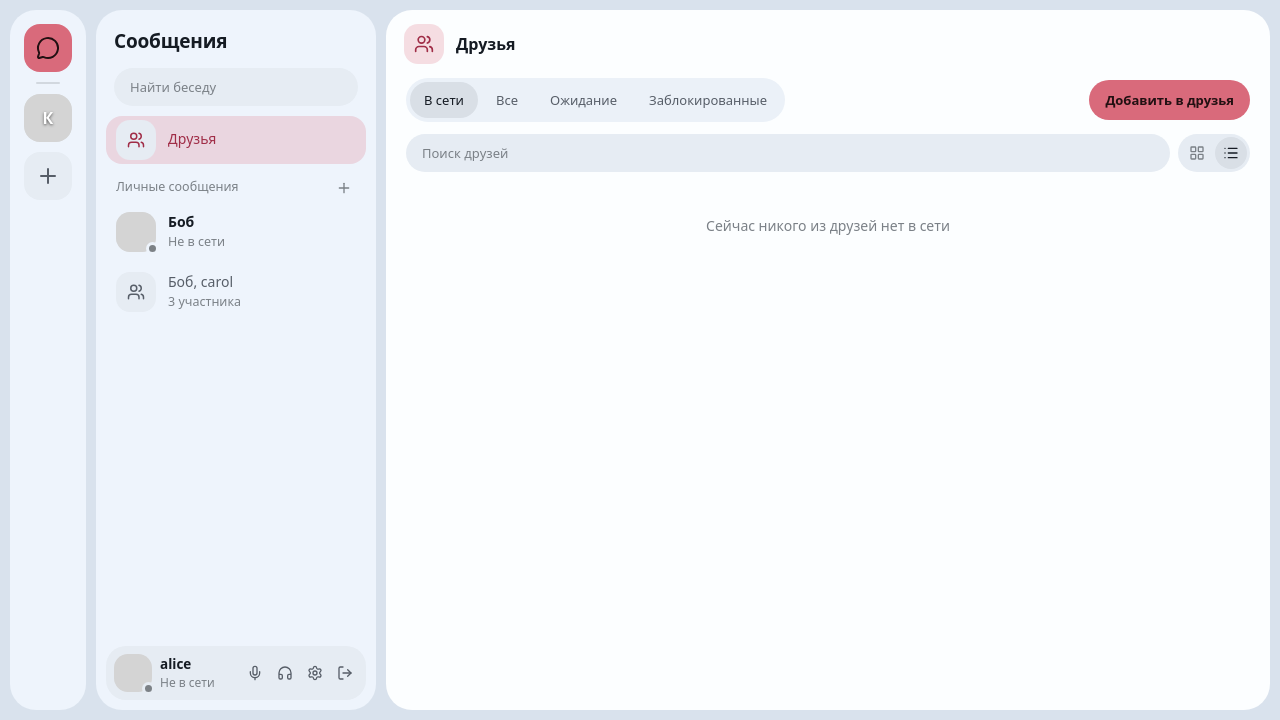
Test: friends page › says so when the server answers a secret chat with a plain one
This screenshot has width=1280, height=720.
Click the tab "Все" at point(507, 100), box [482, 82, 532, 118]
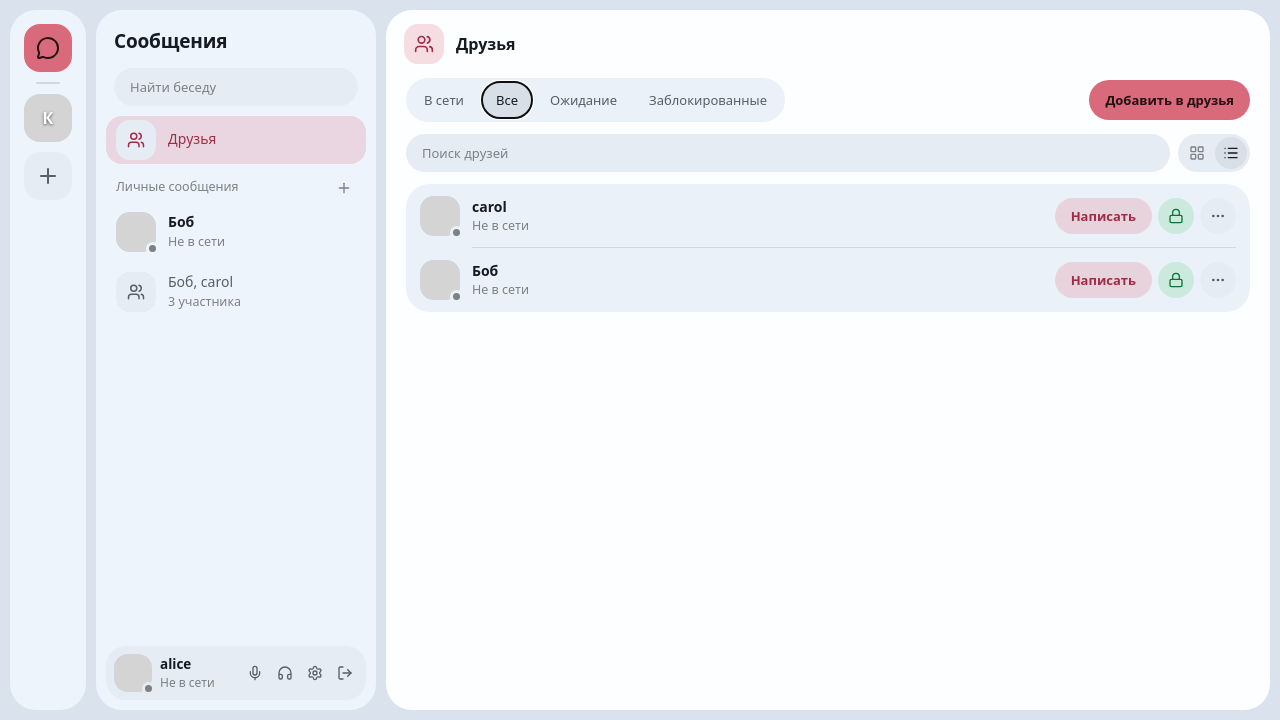
Click the button named "Секретный чат — Боб" at point(1176, 280), box [1158, 262, 1194, 298]
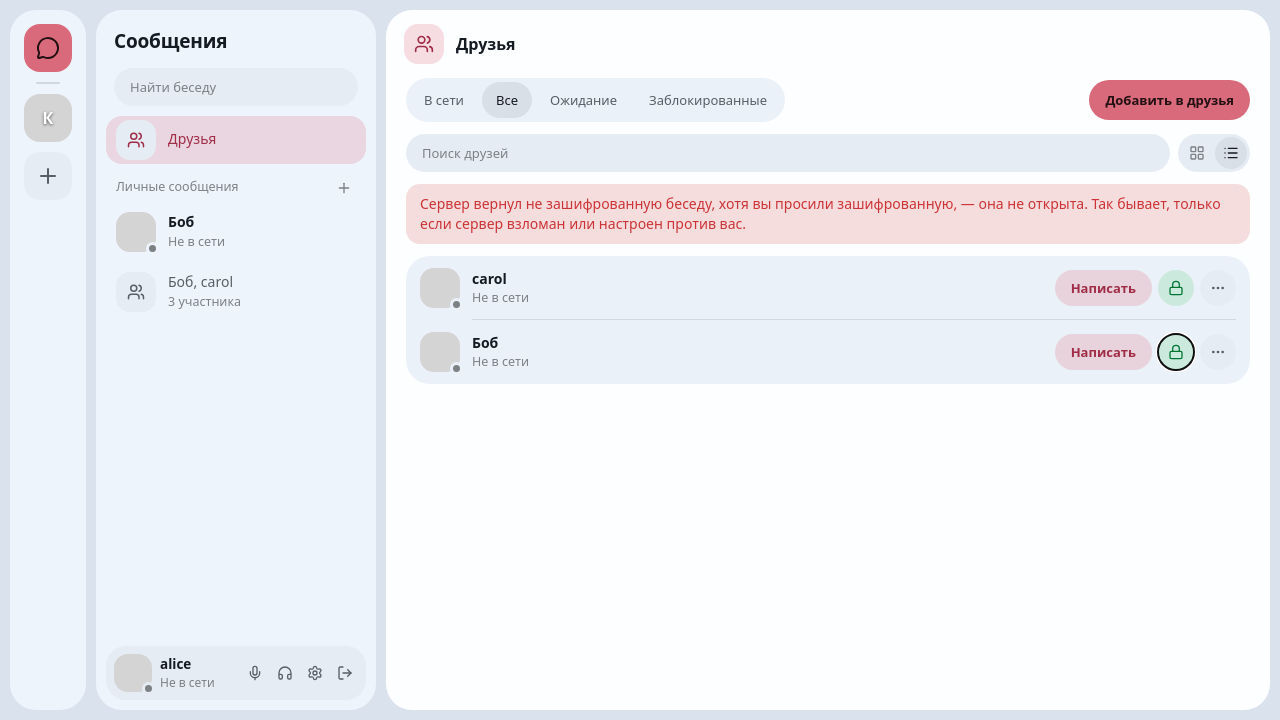
Result: the message shows "не зашифрованную" at [420, 194, 1221, 233]
